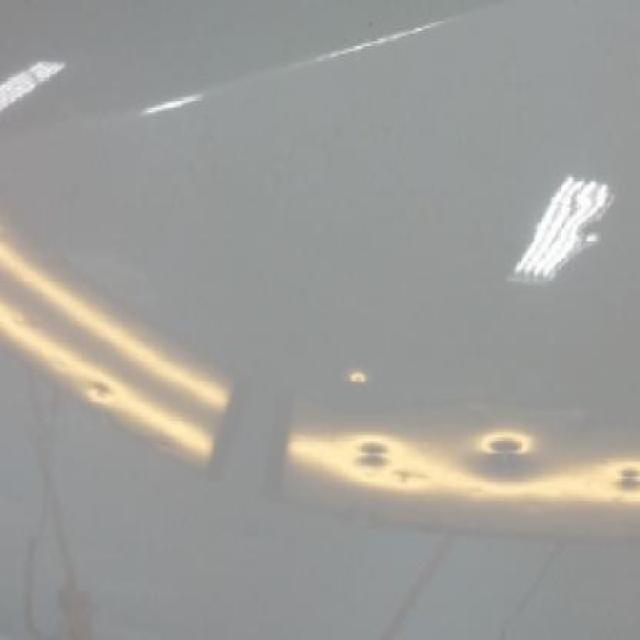dent: (351, 436, 391, 474), (479, 431, 533, 457), (614, 460, 640, 494), (394, 468, 432, 485), (90, 380, 116, 400), (351, 371, 367, 388)
